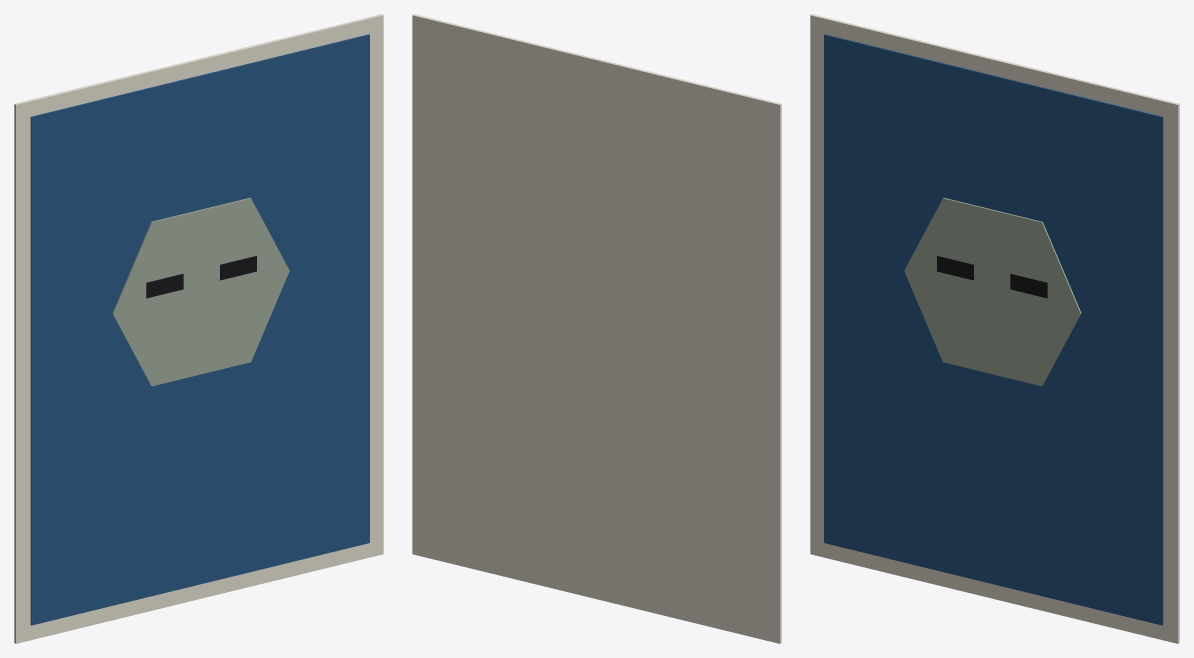
File: GD_Poster_01.glb
3 views of the same model, side by side, from view 1: azimuth 30°, elevation 25°; view 2: azimuth 150°, elevation 25°; view 3: azimuth 330°, elevation 25° (orthographic).
Parts seen in each view (by area): view 1: GD_Poster_01; view 2: GD_Poster_01; view 3: GD_Poster_01.
Part boxes in pixels (x1,y1,x2,y2): GD_Poster_01: [14, 14, 383, 643]; GD_Poster_01: [412, 14, 781, 643]; GD_Poster_01: [810, 14, 1179, 643].
Size of the model in its own units: 0.5 by 0.7 by 0.009.
Materials: 1 (1 with a texture image).
